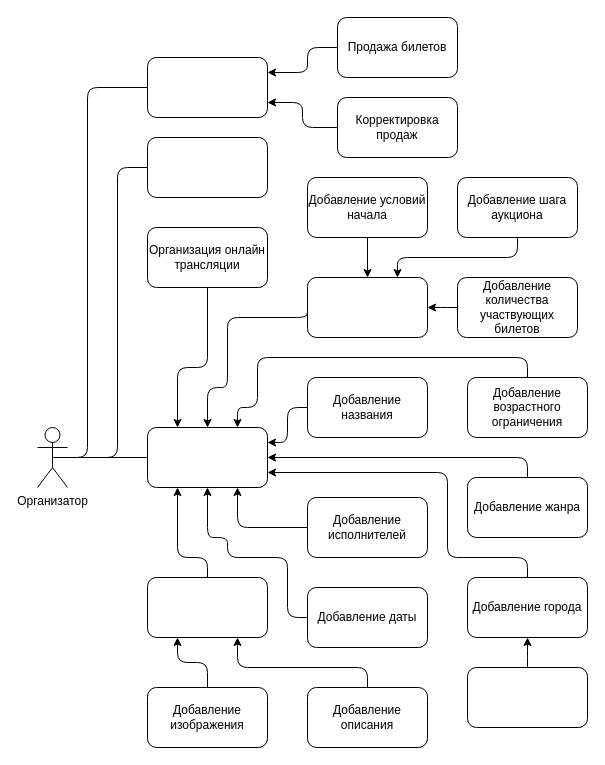
This 605x765 diagram has some shape labels left out. The shapes that lost their labels are listed below. From the top down, each one's centre as x and y in pixels, then its label:
the point at 207,87: Просмотр статистики продаж
the point at 207,167: Проверка билетов
the point at 367,307: Подготовка аукциона
the point at 207,457: Создание концерта
the point at 207,607: Создание промо
the point at 527,697: Добавление места проведения
